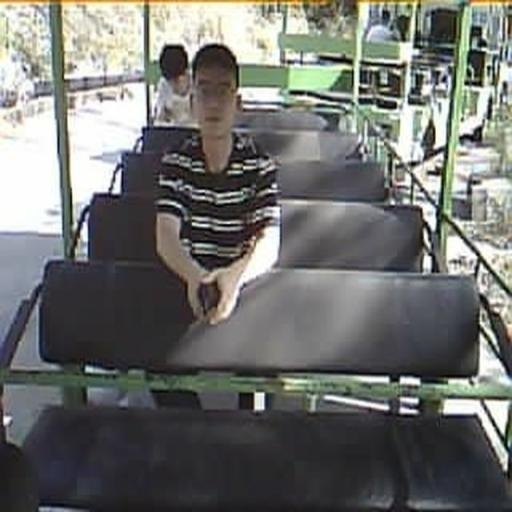persona: (152, 42, 283, 326), (150, 43, 196, 126)
